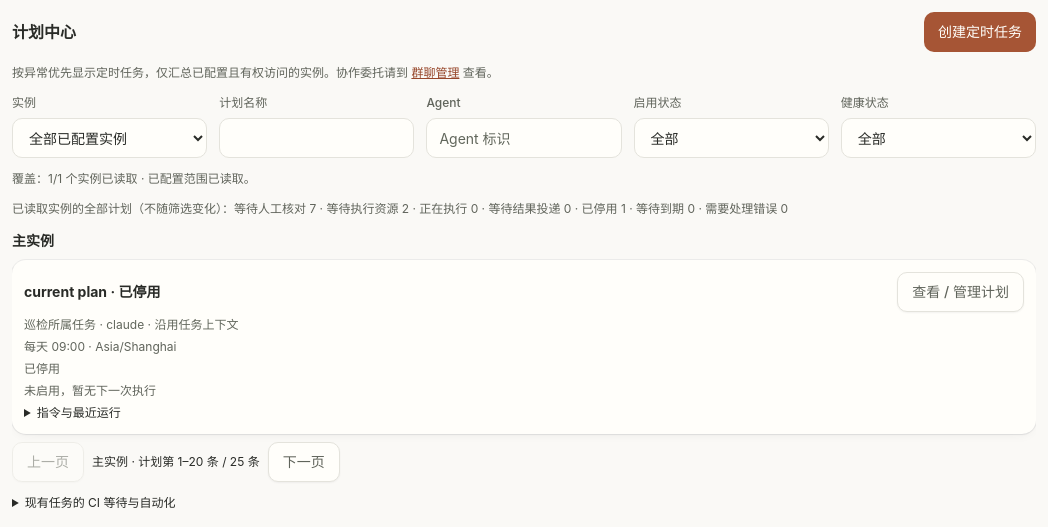
Test: automation overview › queries plans directly, preserves complete authorized counts across pagination, and keeps CI accessible
Expected: the text "current plan · 已停用" is shown, 24,281 -> 160,303
Expected: the text "按异常优先显示定时任务，仅汇总已配置且有权访问的实例。协作委托请到 群聊管理 查看。" is shown, 12,65 -> 499,80
Click the button "下一页": (304, 462) 268,442 -> 340,482
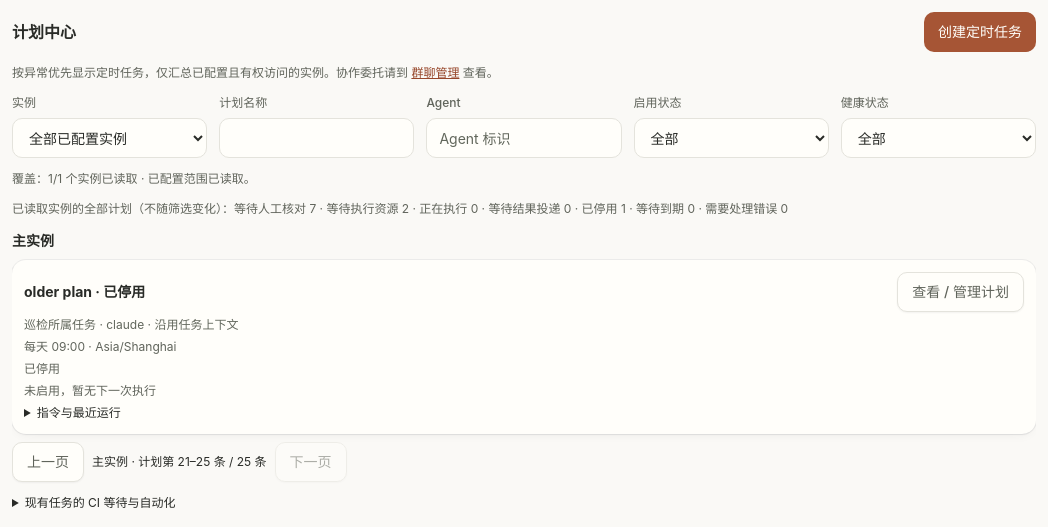
Expected: the text "等待人工核对 7" is shown, 234,201 -> 788,216
Result: the text "older plan · 已停用" is shown at 24,281 -> 145,303
